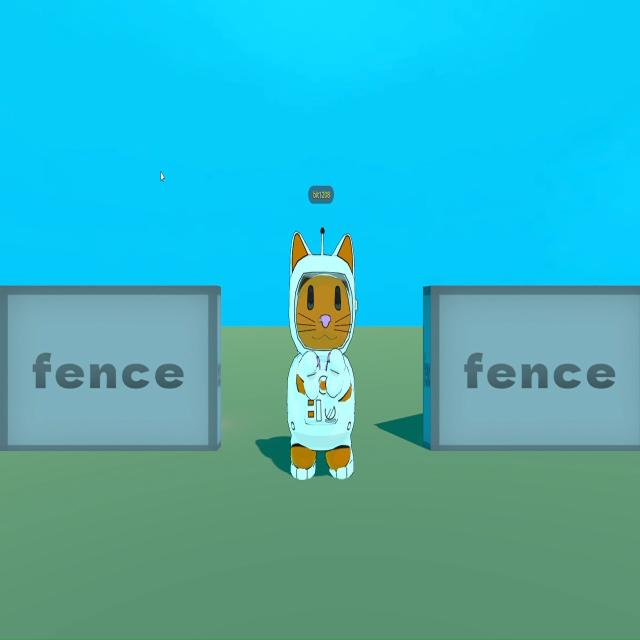human: (286, 229, 356, 488)
